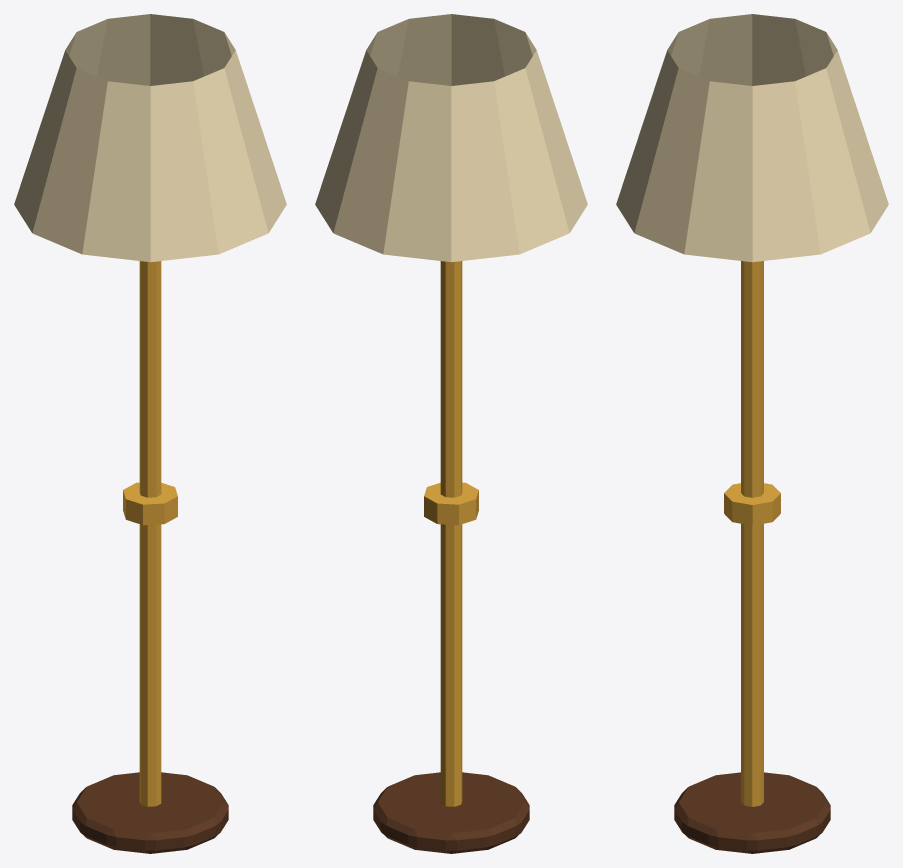
File: standing_lamp.glb
3 renders of one model, left to right at view 1: azimuth 30°, elevation 25°; view 2: azimuth 150°, elevation 25°; view 3: azimuth 270°, elevation 25°, orthographic.
Parts seen in each view (by area): view 1: standing_lamp; view 2: standing_lamp; view 3: standing_lamp.
Part boxes in pixels (bbox=[...]): standing_lamp: bbox=[14, 14, 286, 853]; standing_lamp: bbox=[315, 14, 587, 853]; standing_lamp: bbox=[616, 14, 888, 853].
Bounding box in the file's own units: 0.48 × 1.5 × 0.48.
